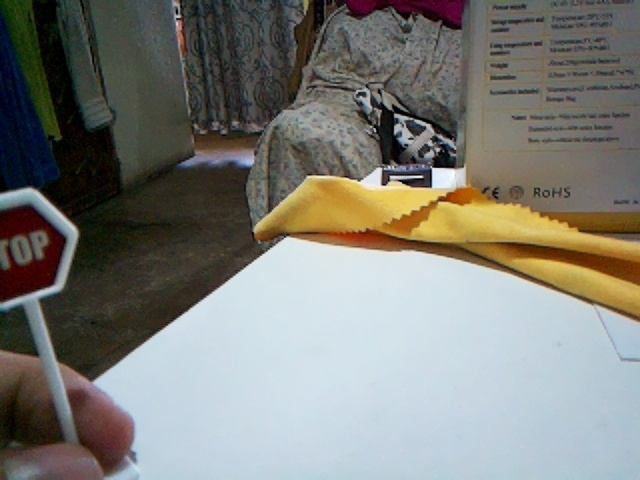stop_sign: (0, 187, 78, 310)
